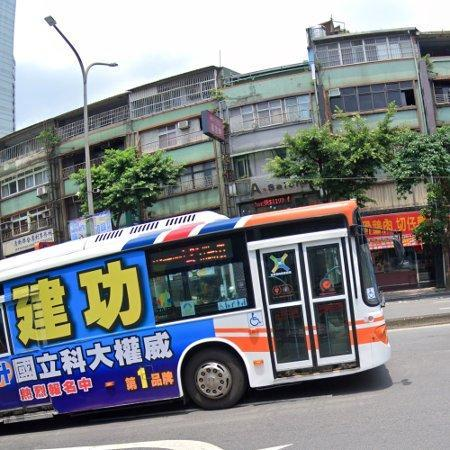buses: (0, 201, 391, 423)
